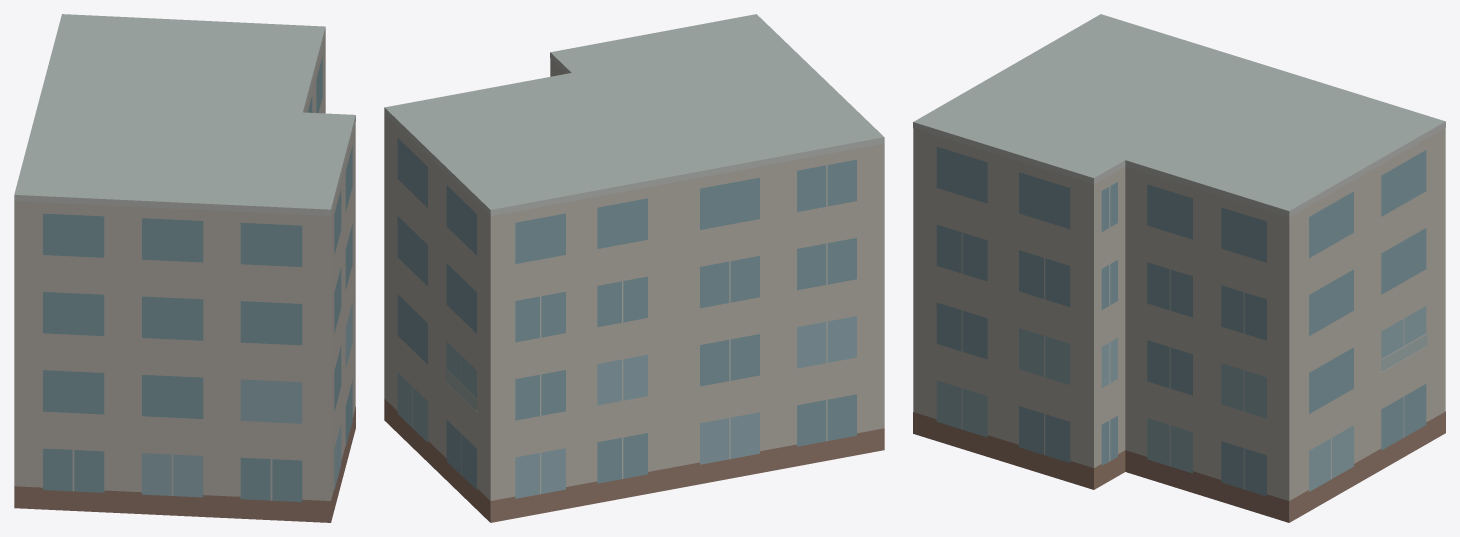
The model's file is residential-e88184a0-1e42-472f-8c3f-8127eae6dcc5.glb.
3 renders of one model, left to right at view 1: azimuth 30°, elevation 25°; view 2: azimuth 150°, elevation 25°; view 3: azimuth 270°, elevation 25°, orthographic.
Parts seen in each view (by area): view 1: residential-e88184a0-1e42-472f-8c3f-8127eae6dcc5.tmp; view 2: residential-e88184a0-1e42-472f-8c3f-8127eae6dcc5.tmp; view 3: residential-e88184a0-1e42-472f-8c3f-8127eae6dcc5.tmp.
Part boxes in pixels (<box>): residential-e88184a0-1e42-472f-8c3f-8127eae6dcc5.tmp: <box>14,14,355,522</box>; residential-e88184a0-1e42-472f-8c3f-8127eae6dcc5.tmp: <box>384,14,884,522</box>; residential-e88184a0-1e42-472f-8c3f-8127eae6dcc5.tmp: <box>913,14,1445,522</box>.
Bounding box in the file's own units: 16.56 × 12.2 × 18.9.
